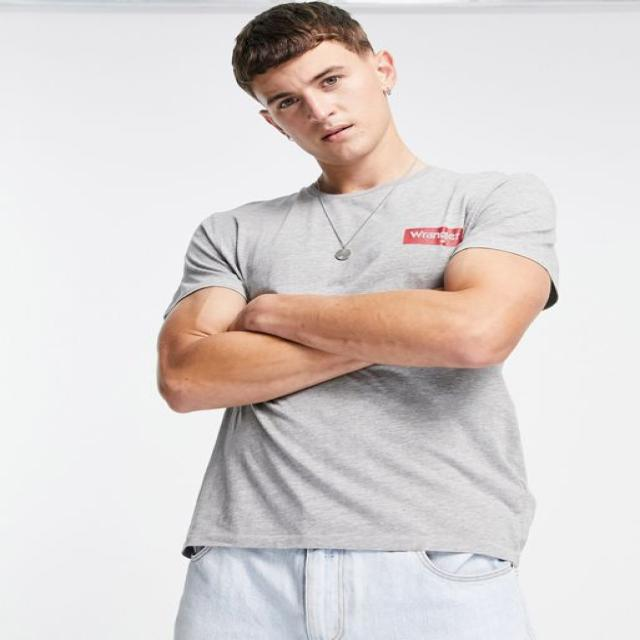tshirt: (160, 164, 559, 559)
